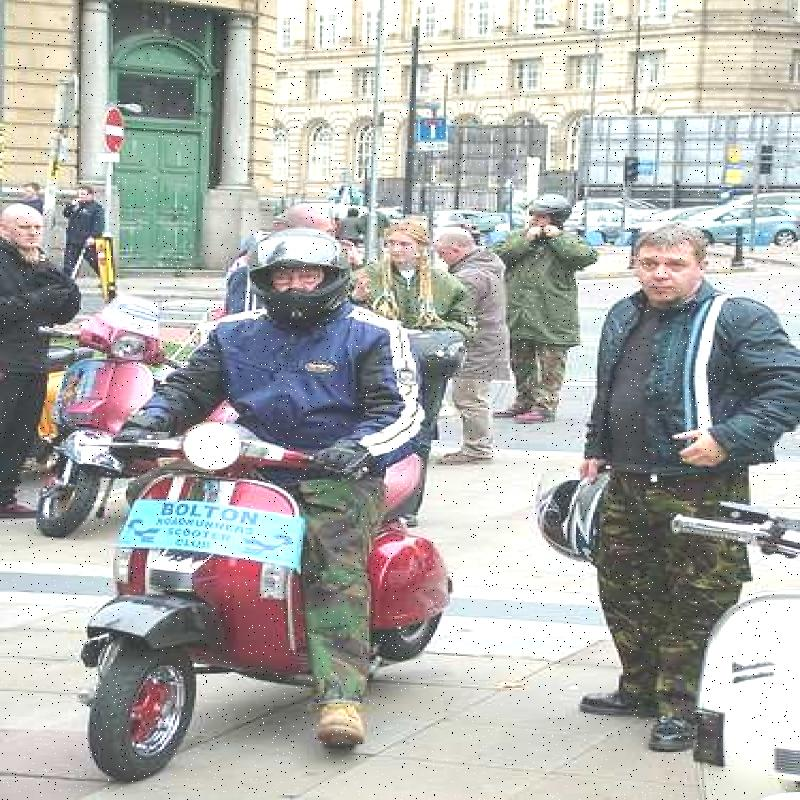bike: (64, 406, 314, 752)
